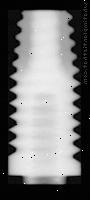Biomet 3i: (8, 10, 81, 184)
